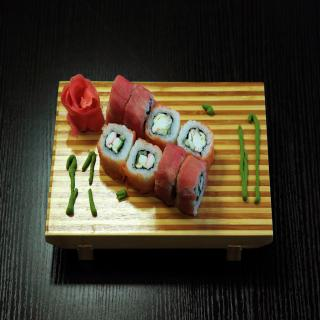Sushi: (99, 71, 215, 215), (96, 130, 136, 177)
